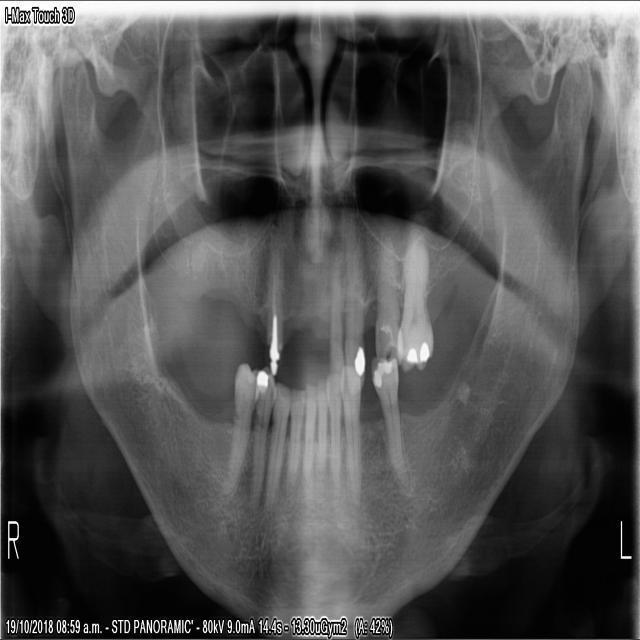LCD: (323, 366, 341, 495)
LID: (298, 379, 318, 495), (314, 372, 328, 473)
LMU: (391, 222, 433, 376)
LPMD: (368, 352, 409, 496), (336, 357, 360, 517)
LPMU: (369, 227, 403, 373)
RID: (261, 377, 292, 511), (284, 384, 305, 494)
RPMD: (217, 357, 261, 494), (247, 360, 277, 509)
